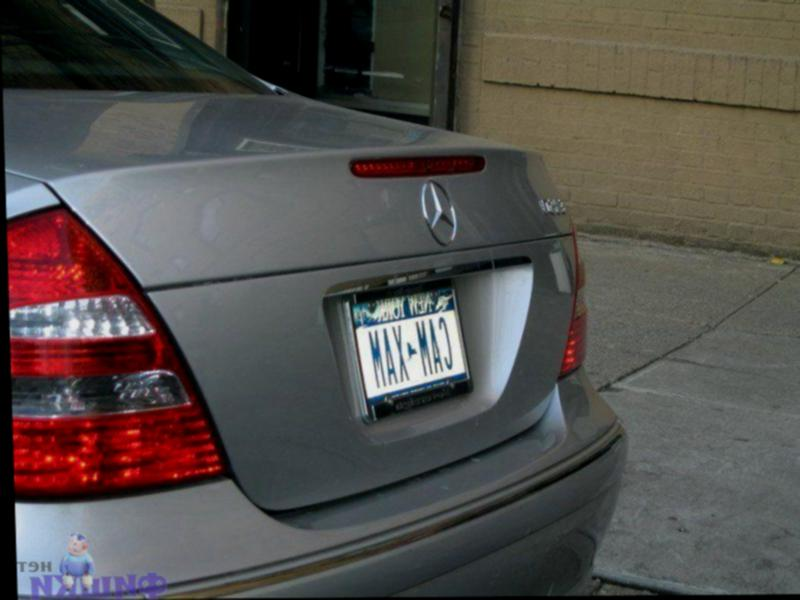License_Plate: (337, 259, 480, 438)
